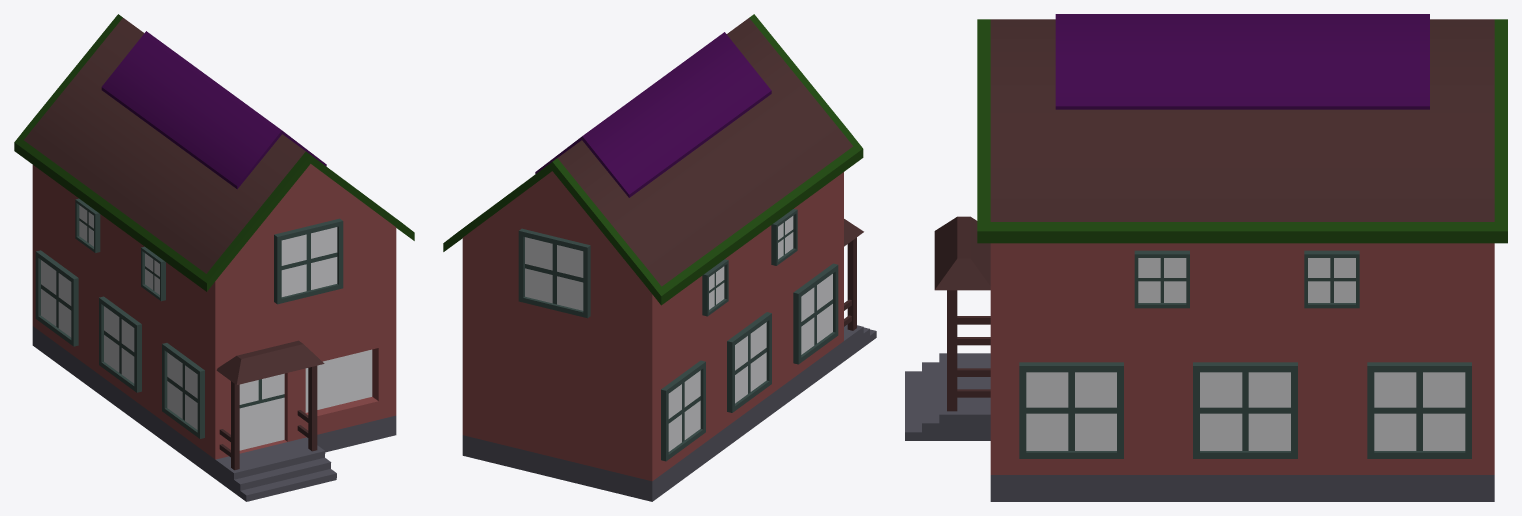
The model's file is house2c.FBX.
3 views of the same model, side by side, from view 1: azimuth 30°, elevation 25°; view 2: azimuth 150°, elevation 25°; view 3: azimuth 270°, elevation 25° (orthographic). The views are drawn at different scales.
Parts seen in each view (by area): view 1: house2c; view 2: house2c; view 3: house2c.
Boxes of the visible parts, x1=… form: house2c: x1=14, y1=14, x2=414, y2=501; house2c: x1=443, y1=14, x2=876, y2=501; house2c: x1=905, y1=14, x2=1507, y2=501.
Size of the model in its own units: 13.78 by 19.63 by 25.12.
